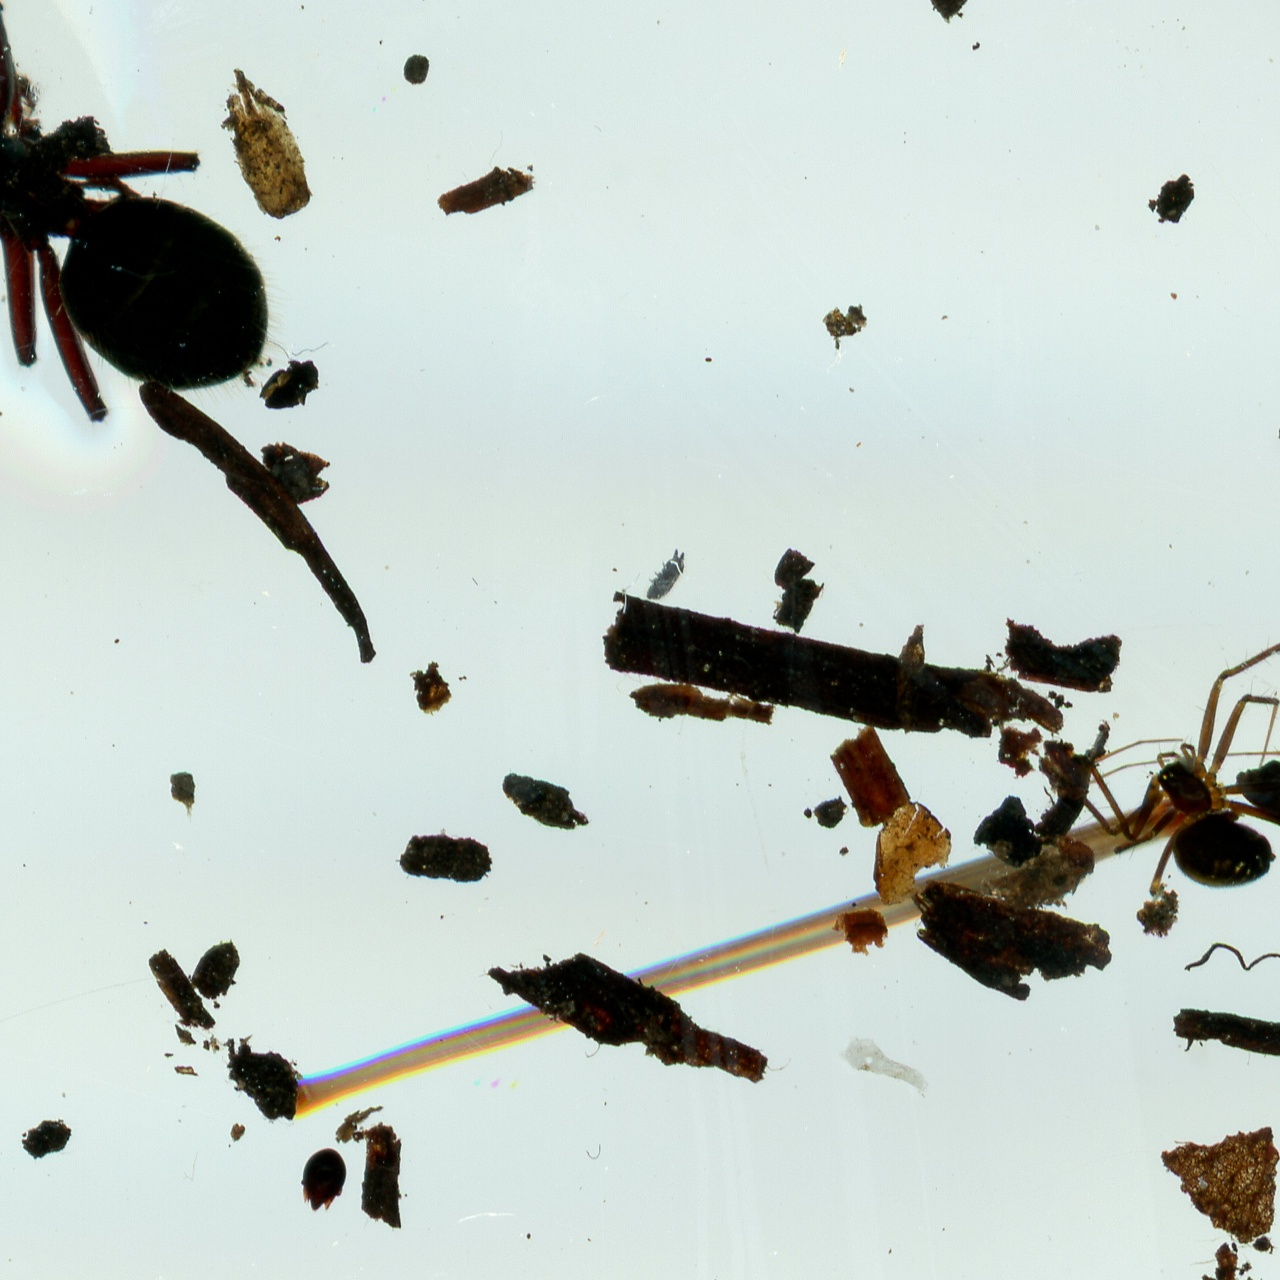arthropod: (0, 0, 394, 481), (1037, 618, 1280, 947), (639, 540, 695, 612)
